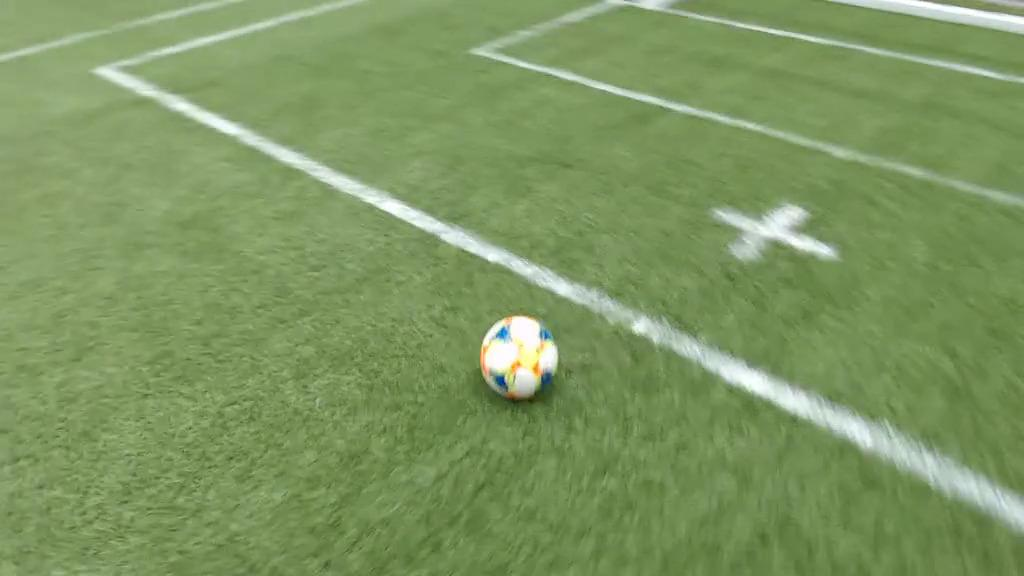ball: (466, 304, 569, 414)
